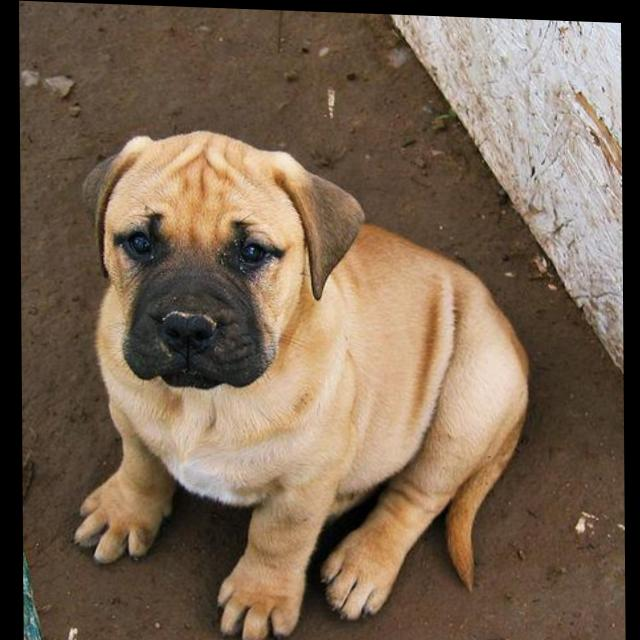bullmastiff: (71, 124, 534, 640)
